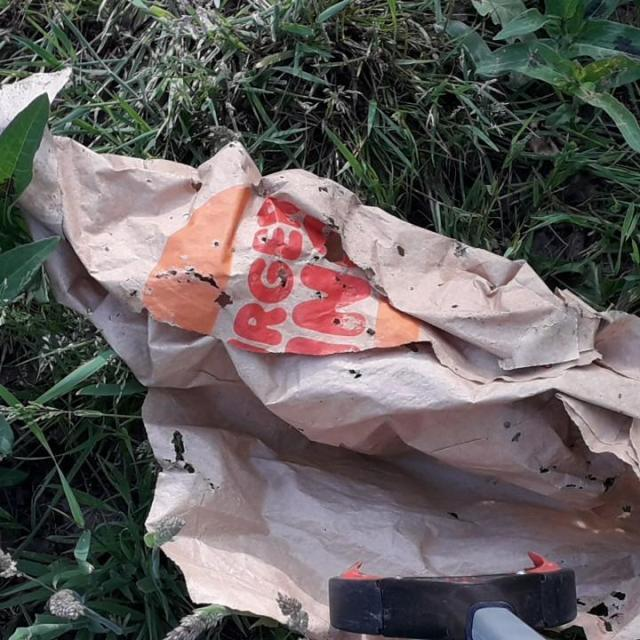Paper: (12, 119, 638, 640)
